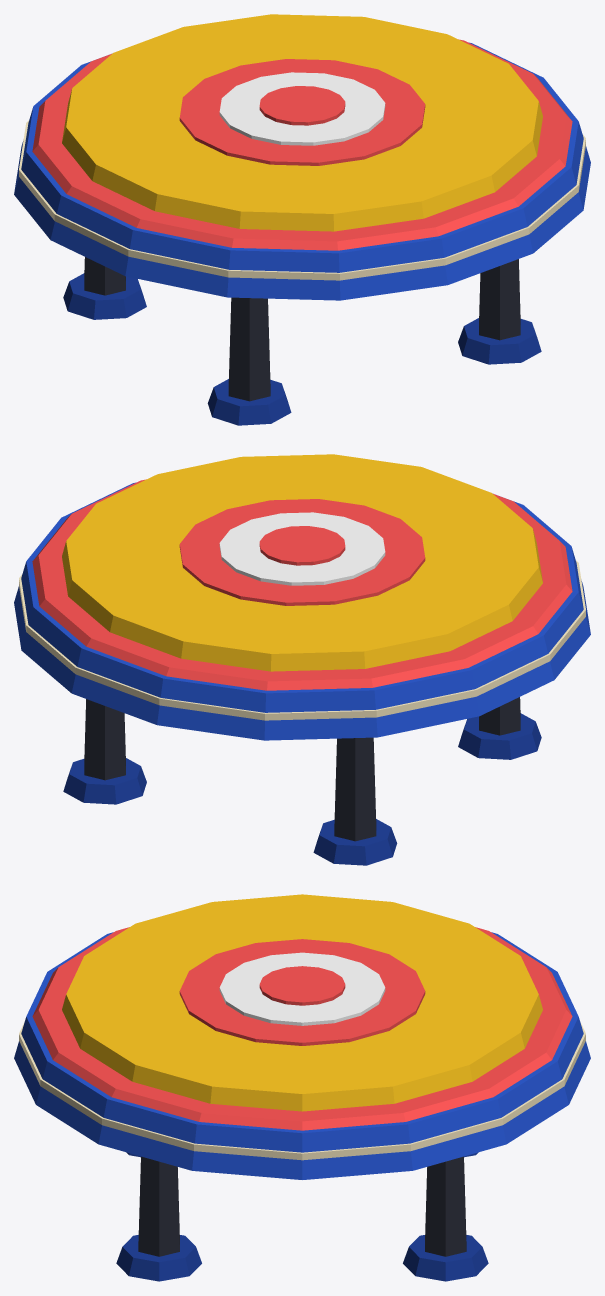
The model's file is trampoline.glb.
The picture shows the model from 3 angles, top to bottom: view 1: azimuth 30°, elevation 25°; view 2: azimuth 150°, elevation 25°; view 3: azimuth 270°, elevation 25°; orthographic projection.
Visible parts, largest first — view 1: TrampolineMat, TrampolineFrame; view 2: TrampolineMat, TrampolineFrame; view 3: TrampolineMat, TrampolineFrame.
Boxes of the visible parts, <box> form: TrampolineMat: <box>62,14,542,231</box>; TrampolineFrame: <box>14,39,590,425</box>; TrampolineMat: <box>62,454,542,671</box>; TrampolineFrame: <box>14,479,590,865</box>; TrampolineMat: <box>62,894,542,1111</box>; TrampolineFrame: <box>14,927,590,1281</box>.
Size of the model in its own units: 0.94 by 0.393 by 0.94.
Materials: 1 (1 with a texture image).
